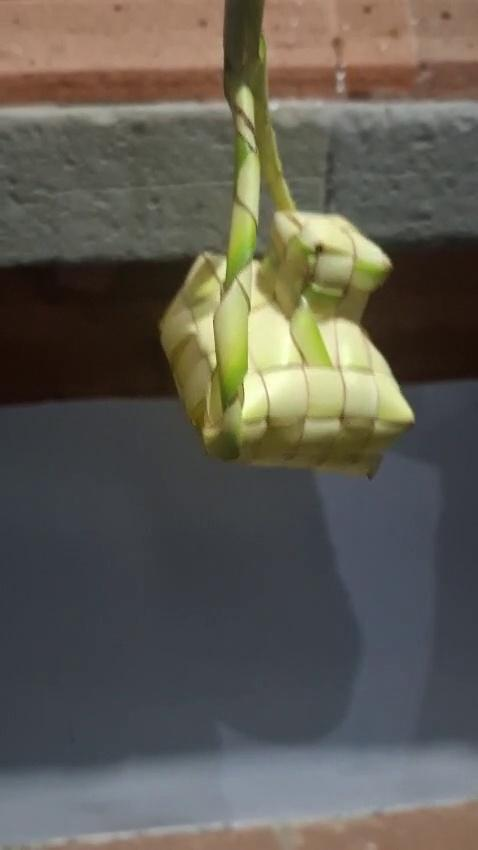Tipat Gong: (157, 0, 415, 477)
